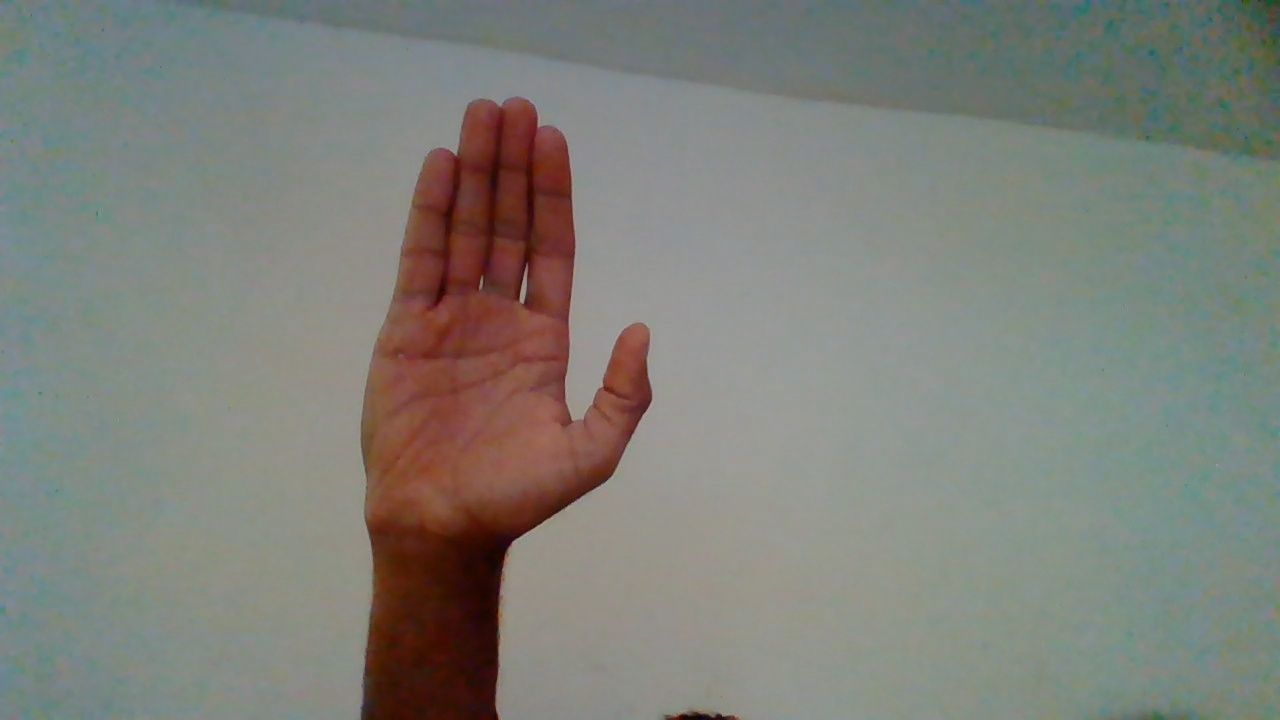ha: (362, 98, 653, 639)
